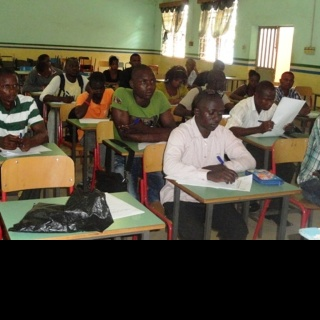without_mask: (199, 97, 227, 132), (132, 69, 157, 100), (257, 91, 276, 110)
